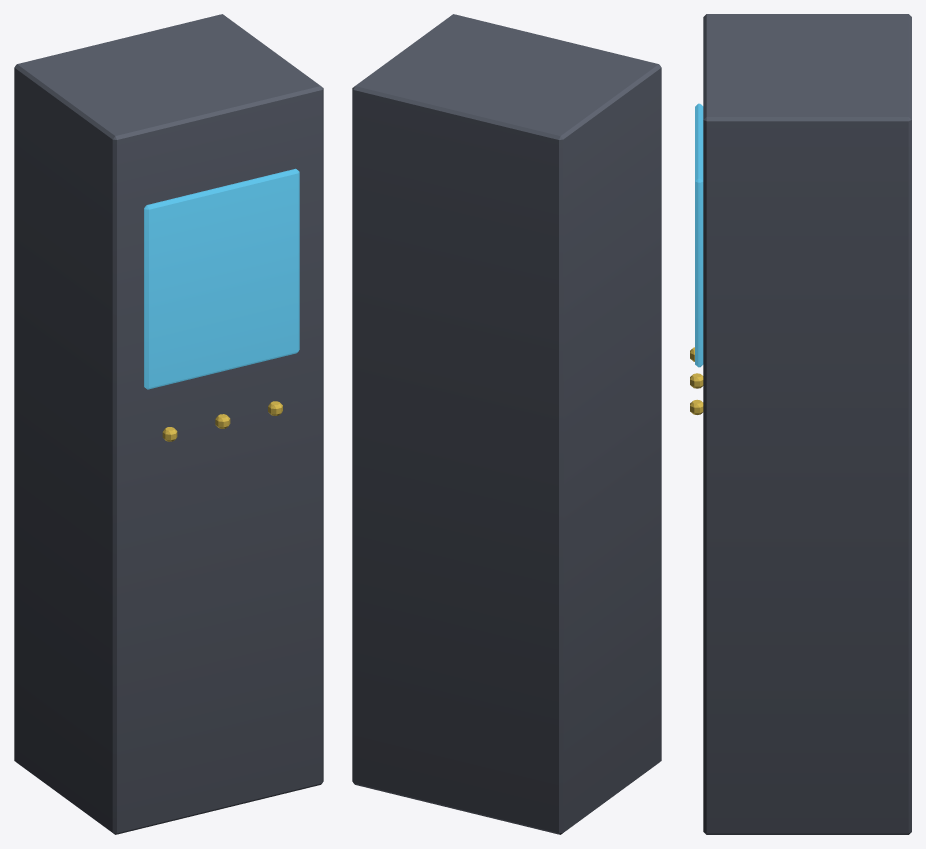
The model's file is analysis_console.glb.
3 views of the same model, side by side, from view 1: azimuth 30°, elevation 25°; view 2: azimuth 150°, elevation 25°; view 3: azimuth 270°, elevation 25° (orthographic). The views are drawn at different scales.
Parts seen in each view (by area): view 1: analysis_console-convcol; view 2: analysis_console-convcol; view 3: analysis_console-convcol.
Part boxes in pixels (x1,y1,x2,y2): analysis_console-convcol: [14, 14, 323, 834]; analysis_console-convcol: [352, 14, 661, 834]; analysis_console-convcol: [690, 14, 911, 834].
Size of the model in its own units: 0.6 by 1.9 by 0.5321.
Materials: 2 (2 with a texture image).
